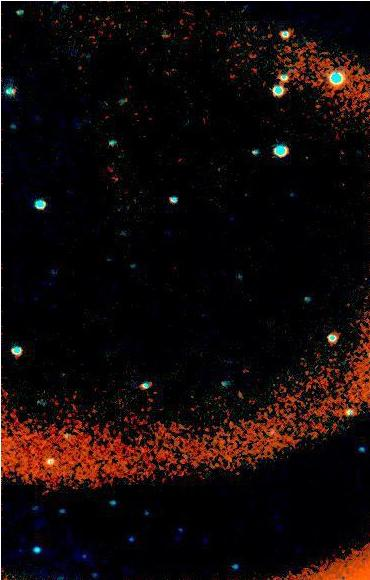star: (225, 386, 255, 416)
